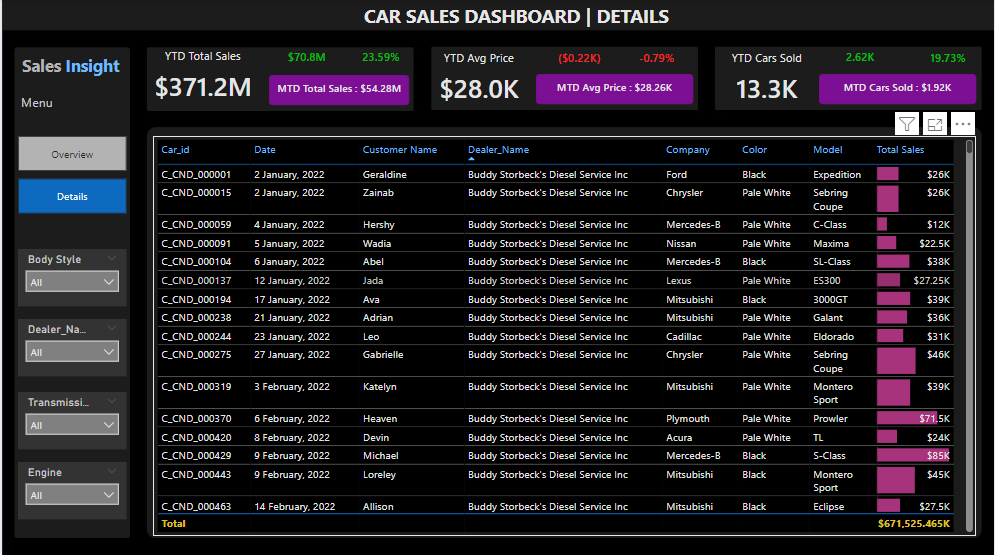

The dashboard page shown, as its layout file describes it:
{"tool":"powerbi","page":{"name":"Details","canvas":[1280,720],"ordinal":1},"visuals":[{"type":"card","title":"YTD Total Sales","fields":{"Values":["car_data.YTD Total Sales"]},"box":[184.8,63.8,149.5,79],"z":0},{"type":"card","fields":{"Values":["car_data.Sales Difference"]},"box":[357.8,57.1,72.2,40.3],"z":1000},{"type":"card","fields":{"Values":["car_data.YoY Sales Growth"]},"box":[453.5,57.1,72.2,40.3],"z":2000},{"type":"card","fields":{"Values":["car_data.MTD KPI"]},"box":[344.4,97.4,181.4,38.6],"z":3000},{"type":"card","title":"YTD Avg Price","fields":{"Values":["car_data.YTD Avg Price"]},"box":[551.4,65.7,128.6,78.6],"z":4000},{"type":"card","fields":{"Values":["car_data.Avg Price Diff"]},"box":[708.6,57.1,72.9,41.4],"z":5000},{"type":"card","fields":{"Values":["car_data.YoY Avg Price Growth"]},"box":[808.6,58.6,71.4,40],"z":6000},{"type":"card","fields":{"Values":["car_data.MRD Avg Price KPI"]},"box":[688.6,97.1,202.9,38.6],"z":7000},{"type":"card","title":"YTD Cars Sold","fields":{"Values":["car_data.YTD Cars Sold"]},"box":[922.9,65.7,128.6,78.6],"z":8000},{"type":"card","fields":{"Values":["car_data.Cars Sold Diff"]},"box":[1071.4,55.7,72.9,41.4],"z":9000},{"type":"card","fields":{"Values":["car_data.MTD Cars Sold KPI"]},"box":[1054.3,97.1,202.9,38.6],"z":10000},{"type":"textbox","box":[461.4,0,452.9,51.4],"z":11000},{"type":"slicer","fields":{"Values":["car_data.Body Style"]},"box":[20,322.9,140,74.3],"z":12000},{"type":"slicer","fields":{"Values":["car_data.Dealer_Name"]},"box":[20,412.9,140,74.3],"z":13000},{"type":"slicer","fields":{"Values":["car_data.Transmission"]},"box":[20,507.1,140,74.3],"z":14000},{"type":"slicer","fields":{"Values":["car_data.Engine"]},"box":[20,597.1,140,74.3],"z":15000},{"type":"tableEx","fields":{"Values":["car_data.Car_id","car_data.Date","car_data.Customer Name","car_data.Dealer_Name","car_data.Company","car_data.Color","car_data.Model","Sum(car_data.Price ($))"]},"box":[194.3,177.1,1062.9,515.7],"z":16000},{"type":"textbox","box":[20,65.7,150,57.1],"z":17000},{"type":"textbox","box":[0,117.1,90,44.3],"z":18000},{"type":"pageNavigator","box":[20,177.1,140,101.4],"z":19000},{"type":"card","fields":{"Values":["car_data.YoY Car Sold Growth"]},"box":[1184.3,57.1,72.9,41.4],"z":20000}]}

Visuals, with their boxes in screenshot pixels (x1, y1, x2, y2), scaled from the page's 1280x720 canvas onto the 995x555 screenshot:
"YTD Total Sales" card: 144 49 260 110
card - car_data.Sales Difference: 278 44 334 75
card - car_data.YoY Sales Growth: 353 44 409 75
card - car_data.MTD KPI: 268 75 409 105
"YTD Avg Price" card: 429 51 529 111
card - car_data.Avg Price Diff: 551 44 607 76
card - car_data.YoY Avg Price Growth: 629 45 684 76
card - car_data.MRD Avg Price KPI: 535 75 693 105
"YTD Cars Sold" card: 717 51 817 111
card - car_data.Cars Sold Diff: 833 43 890 75
card - car_data.MTD Cars Sold KPI: 820 75 977 105
textbox: 359 0 711 40
slicer - car_data.Body Style: 16 249 124 306
slicer - car_data.Dealer_Name: 16 318 124 376
slicer - car_data.Transmission: 16 391 124 448
slicer - car_data.Engine: 16 460 124 518
tableEx - car_data.Car_id x car_data.Date: 151 137 977 534
textbox: 16 51 132 95
textbox: 0 90 70 124
pageNavigator: 16 137 124 215
card - car_data.YoY Car Sold Growth: 921 44 977 76
